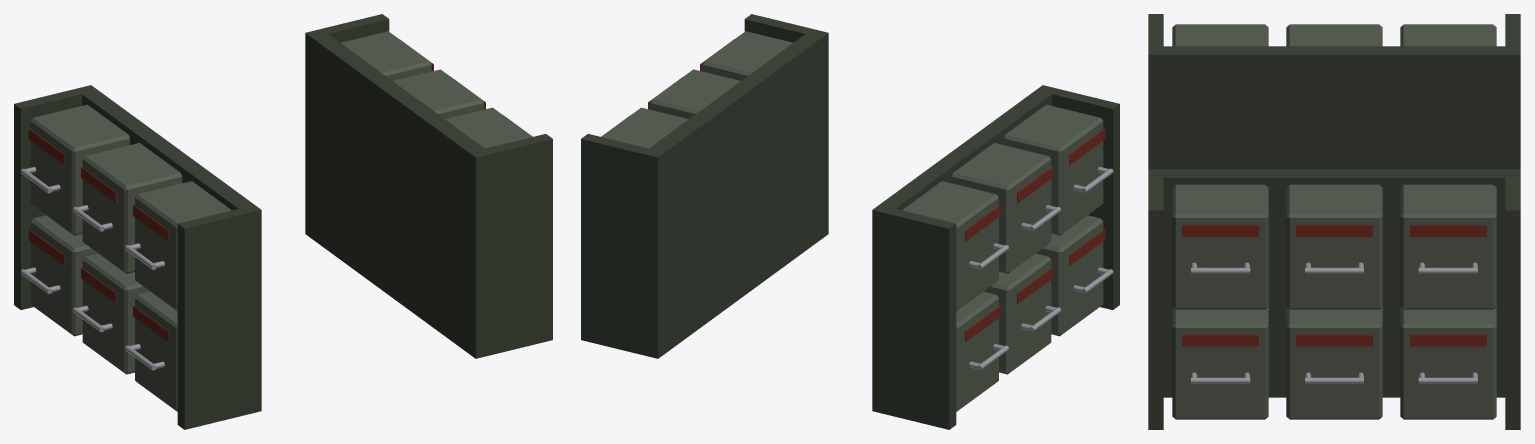
The model's file is s150_cells.obj.
3 views of the same model, side by side, from view 1: azimuth 30°, elevation 25°; view 2: azimuth 150°, elevation 25°; view 3: azimuth 270°, elevation 25° (orthographic). The views are drawn at different scales.
Parts seen in each view (by area): view 1: s150_cells; view 2: s150_cells; view 3: s150_cells.
Part boxes in pixels (bbox=[...]): s150_cells: bbox=[14, 14, 552, 429]; s150_cells: bbox=[581, 14, 1119, 429]; s150_cells: bbox=[1148, 14, 1520, 429].
Size of the model in its own units: 1.85 by 0.9006 by 1.38.
